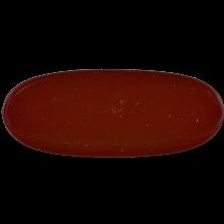60429-163: (0, 0, 224, 224)
